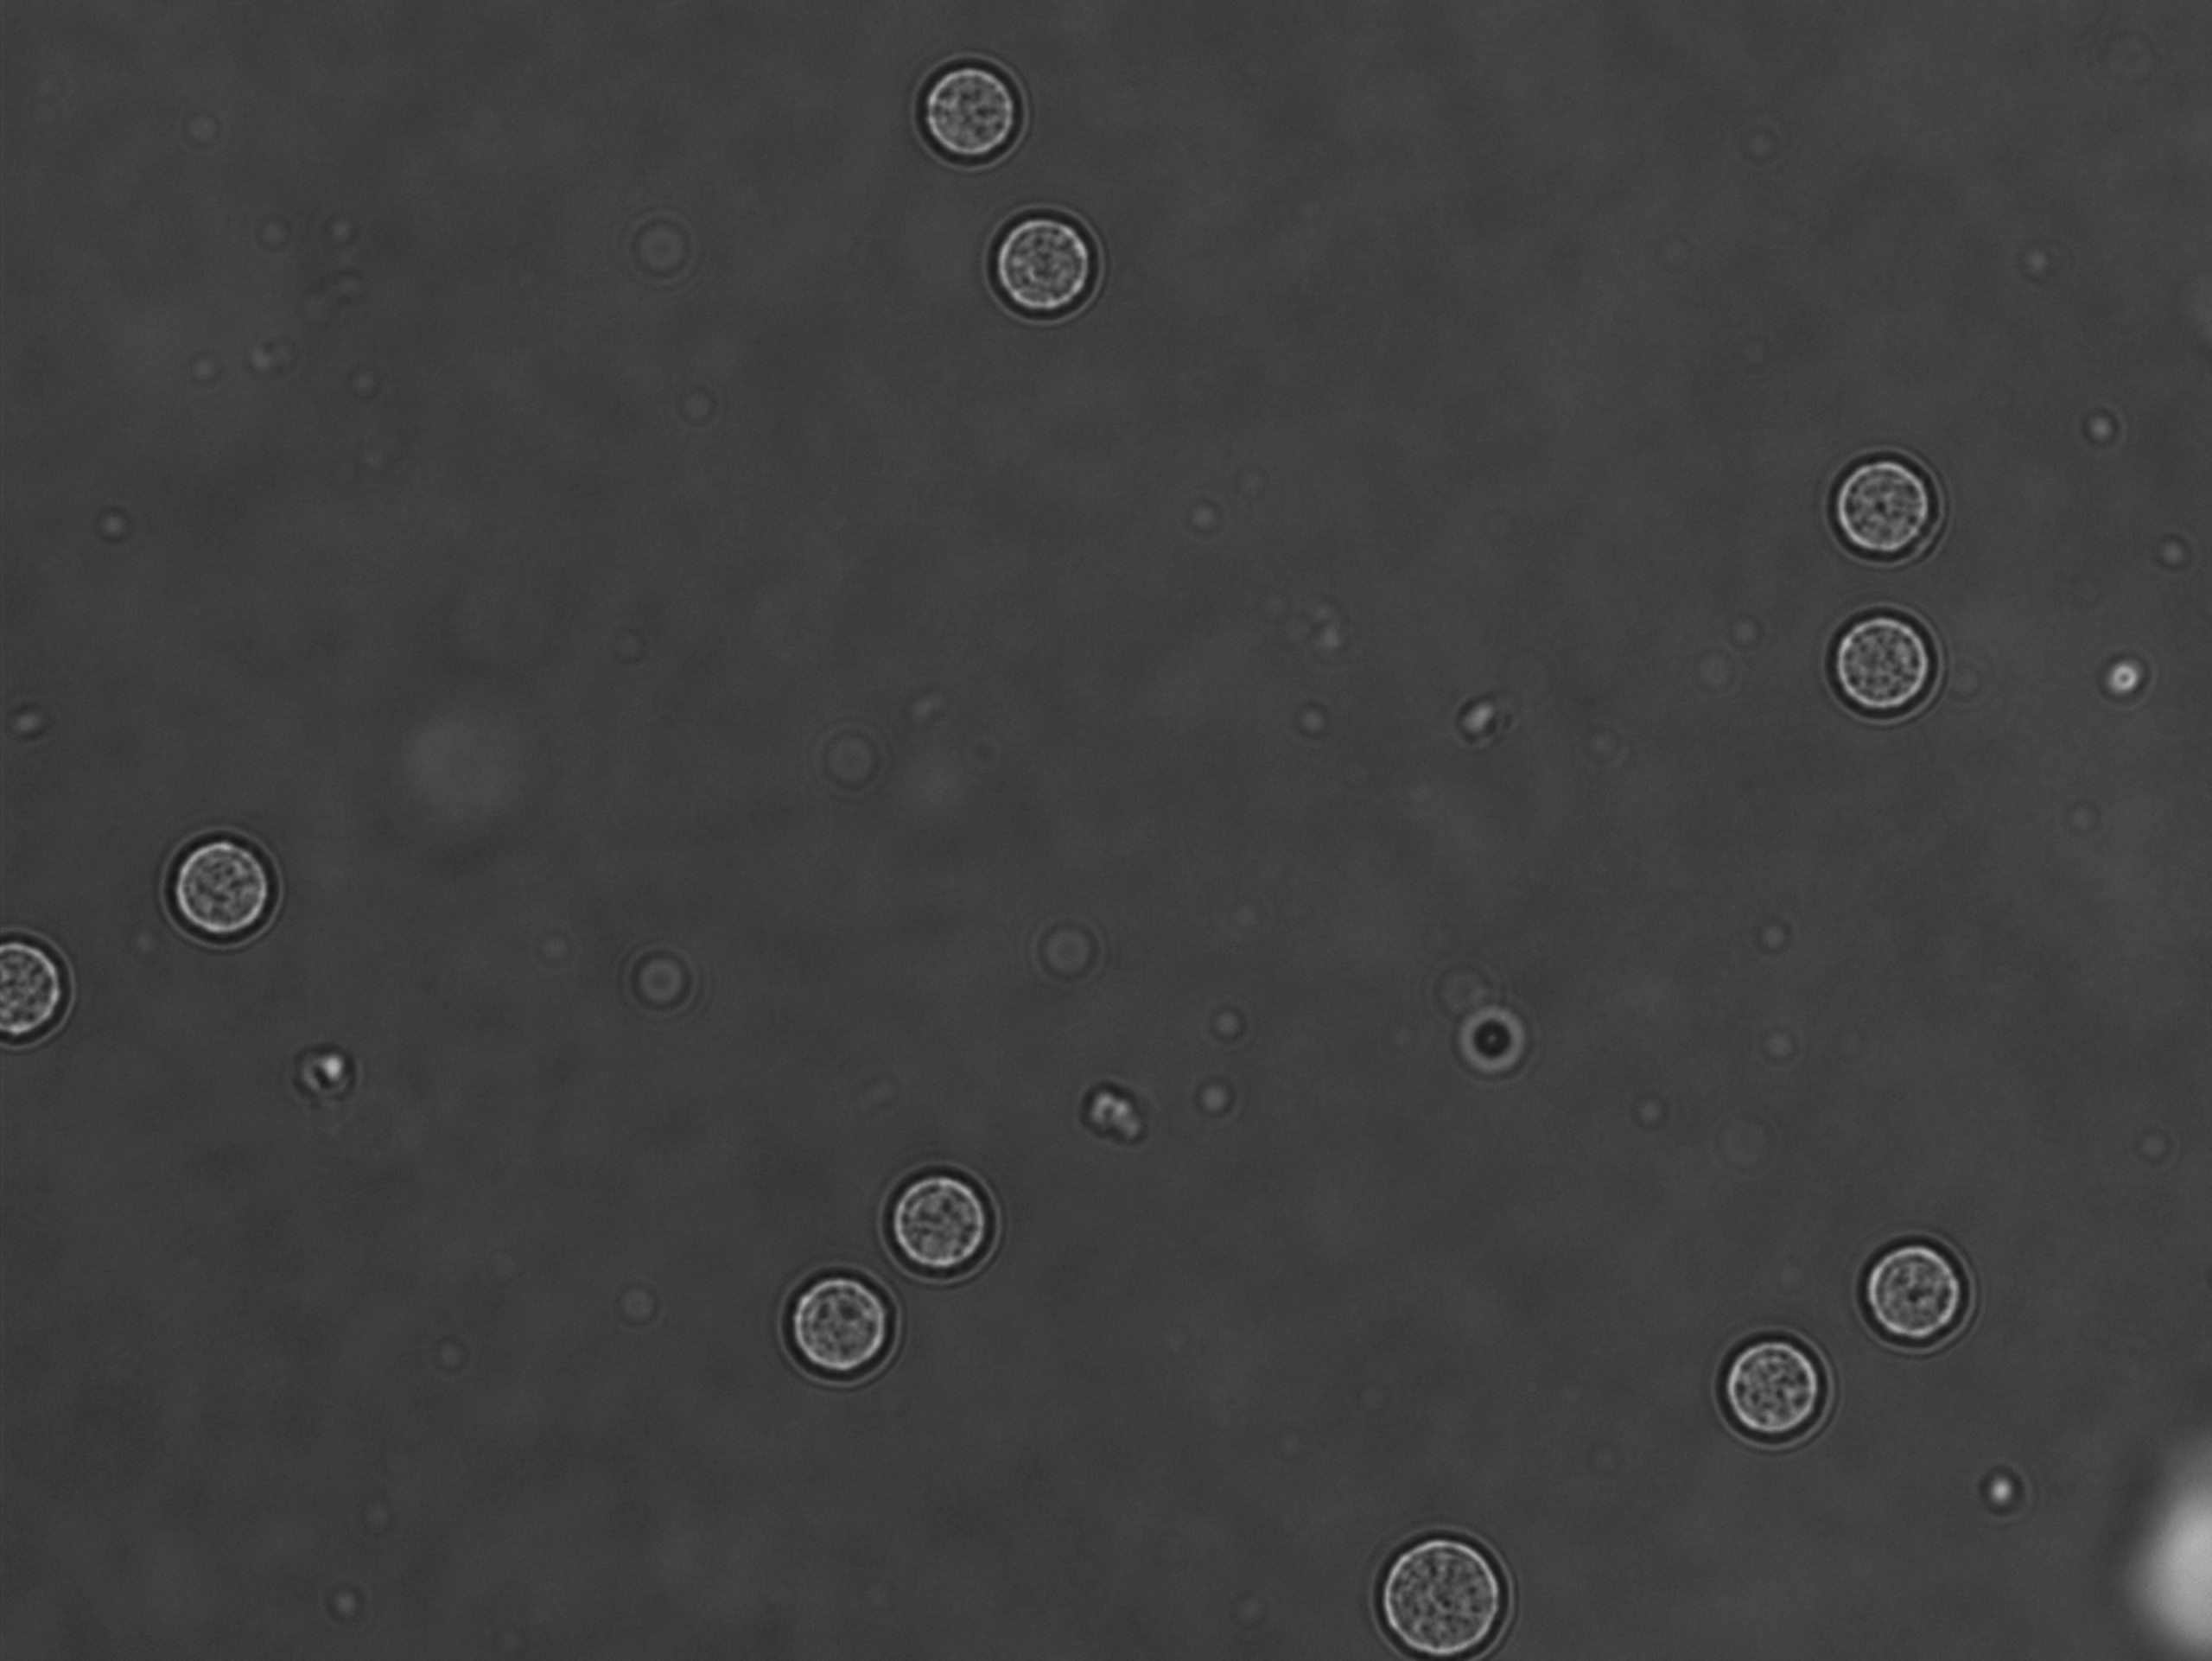depth:0: (1839, 1192, 2020, 1359), (1354, 1500, 1542, 1661), (1697, 1291, 1867, 1466), (1804, 424, 1970, 578), (891, 40, 1057, 183), (764, 1247, 925, 1389), (147, 818, 297, 958), (972, 201, 1127, 335), (1818, 595, 1973, 722), (881, 1164, 1017, 1288)
